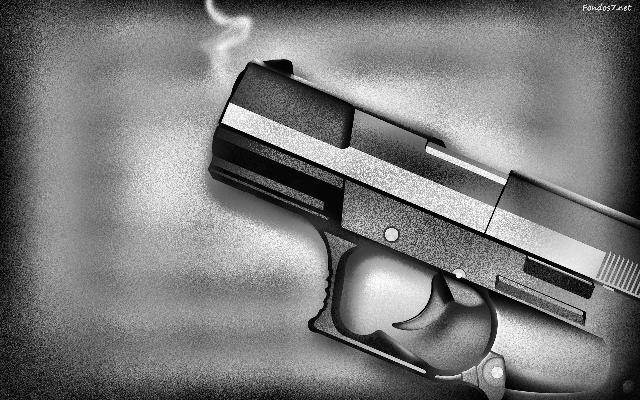pistol: (215, 50, 639, 398)
